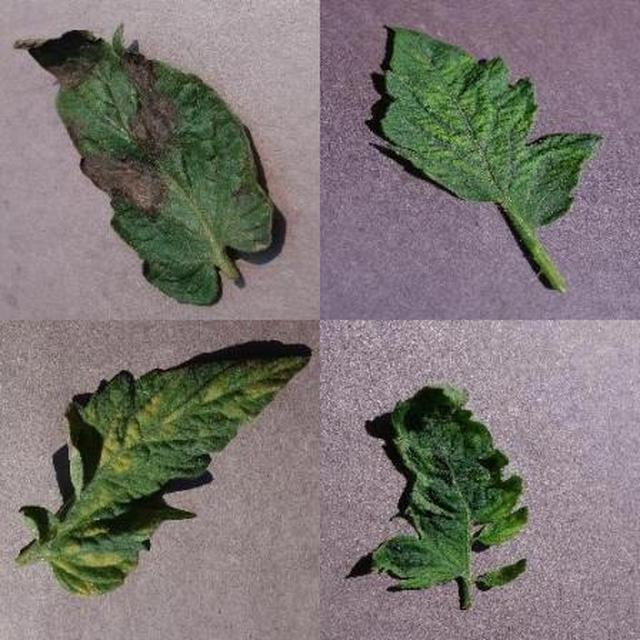Late Blight Leaf: (207, 181, 640, 640)
